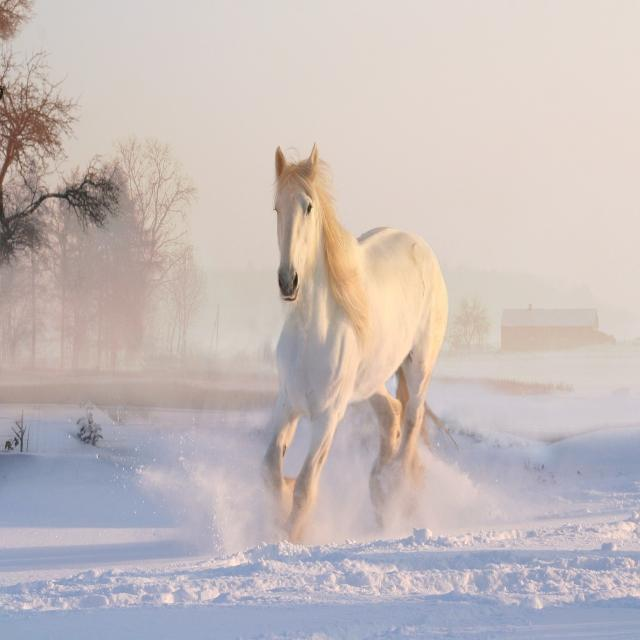Herbivorous: (264, 144, 450, 547)
